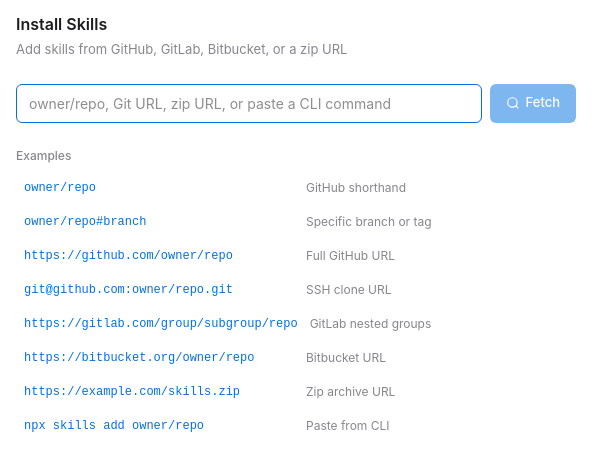
it: InstallSkills › example buttons › fills input when example is clicked
The width and height of the screenshot is (593, 449).
Click the button with class "example" showing "owner/repo GitHub shorthand".
click(60, 188)  # box [16,172,576,202]
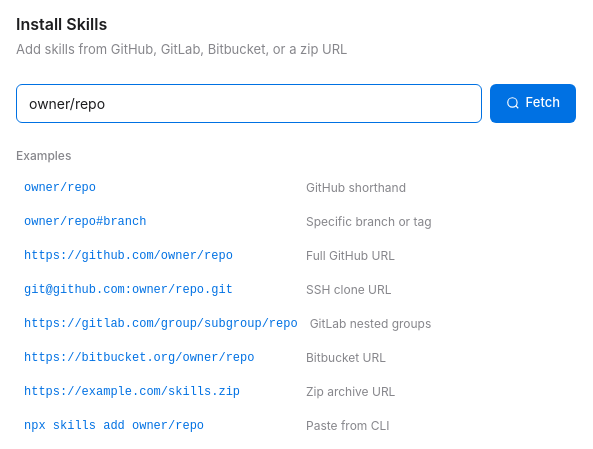
expect the field holds "owner/repo": met, box [16,84,482,122]
